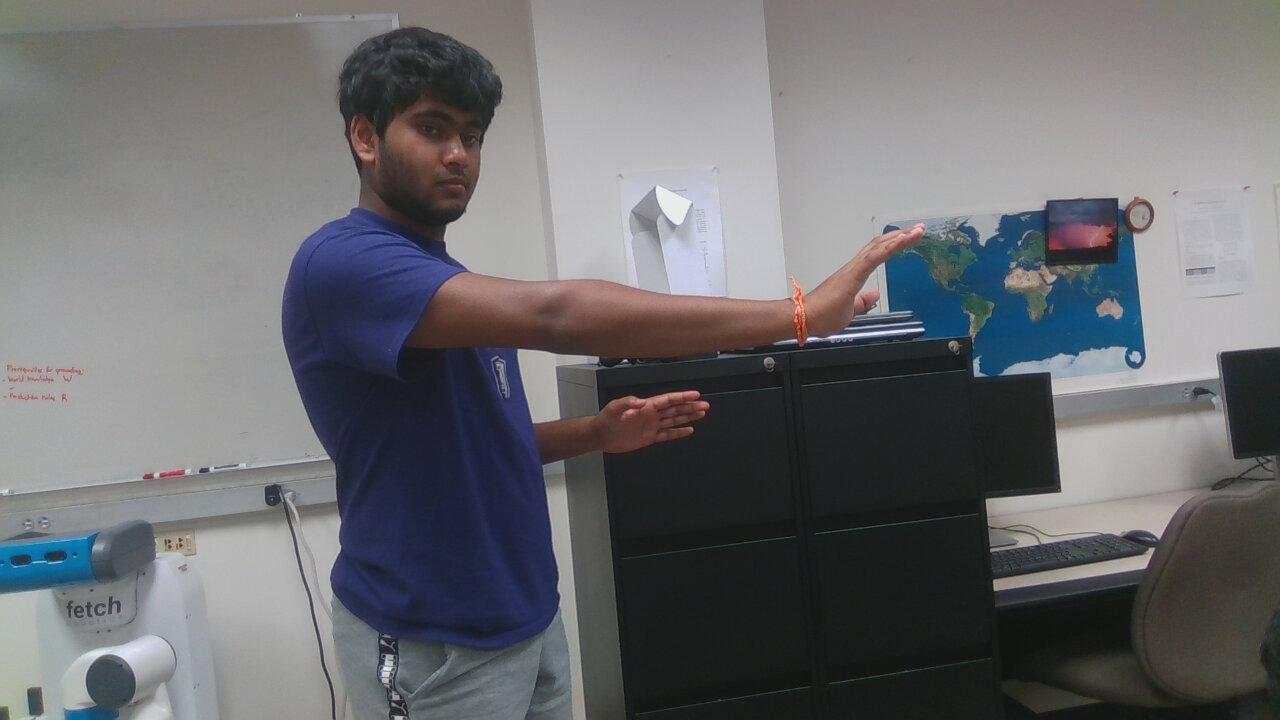hands: (783, 209, 935, 350), (578, 387, 712, 455)
